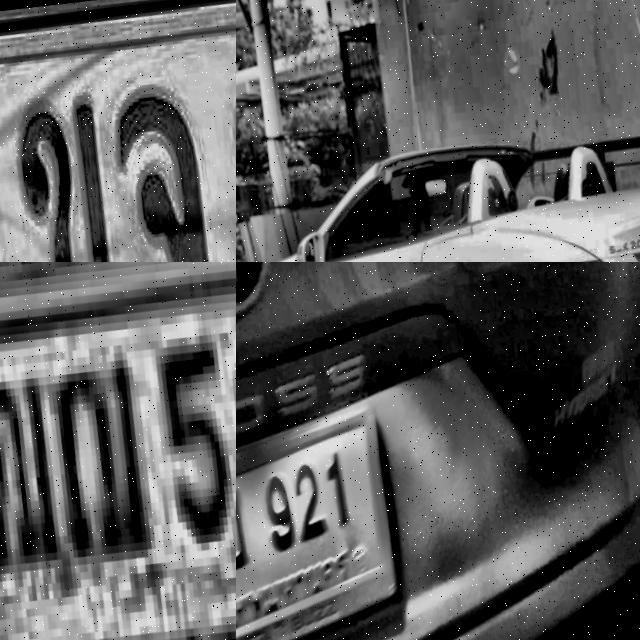license-plate: (0, 262, 236, 640), (0, 0, 236, 262), (236, 382, 436, 640)
